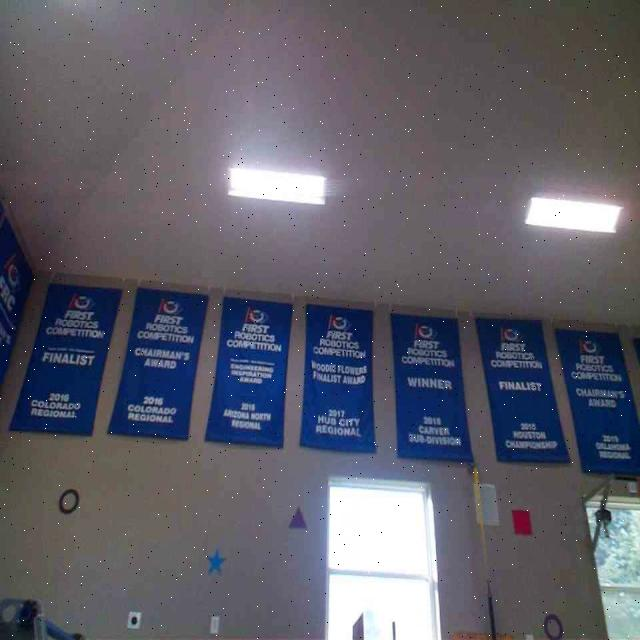ring_black: (57, 488, 80, 513)
ring_purple: (543, 613, 563, 639)
square_red: (510, 509, 532, 535)
star_blue: (204, 547, 227, 575)
triangle_purple: (287, 506, 308, 528)
